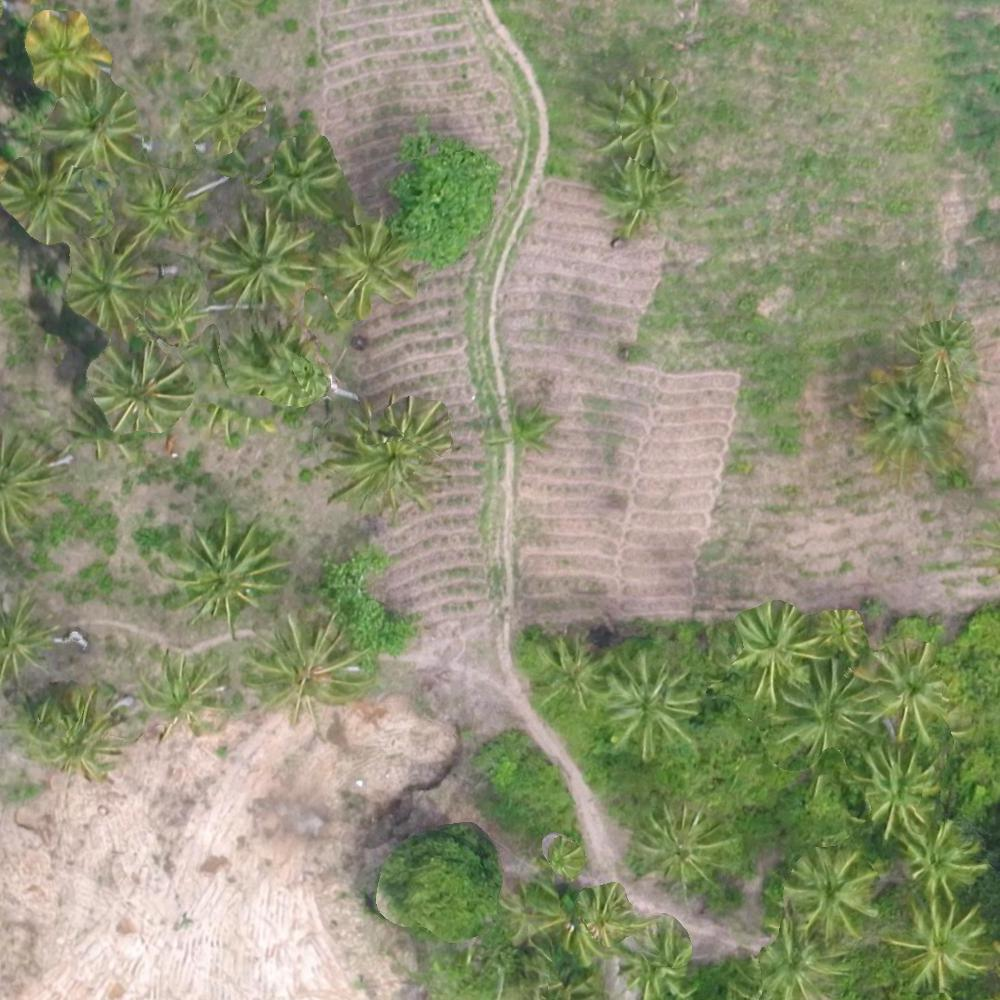Palm: (328, 397, 441, 511), (172, 515, 282, 621), (252, 616, 368, 715), (851, 638, 958, 738), (782, 844, 886, 945), (859, 374, 961, 473), (892, 894, 993, 992), (637, 802, 736, 901), (208, 207, 312, 301), (603, 654, 698, 755), (776, 661, 877, 755), (594, 74, 691, 166), (322, 212, 413, 310), (43, 88, 146, 171), (854, 745, 945, 834), (2, 151, 95, 238), (99, 344, 186, 433), (735, 604, 822, 692), (36, 692, 121, 778), (144, 647, 227, 733), (70, 240, 150, 329), (597, 159, 681, 241), (753, 923, 845, 997), (26, 12, 109, 92), (900, 311, 978, 396), (898, 818, 985, 892), (257, 142, 336, 219), (118, 169, 200, 240), (538, 633, 612, 708), (188, 75, 262, 146), (144, 284, 210, 347), (815, 604, 872, 657)
